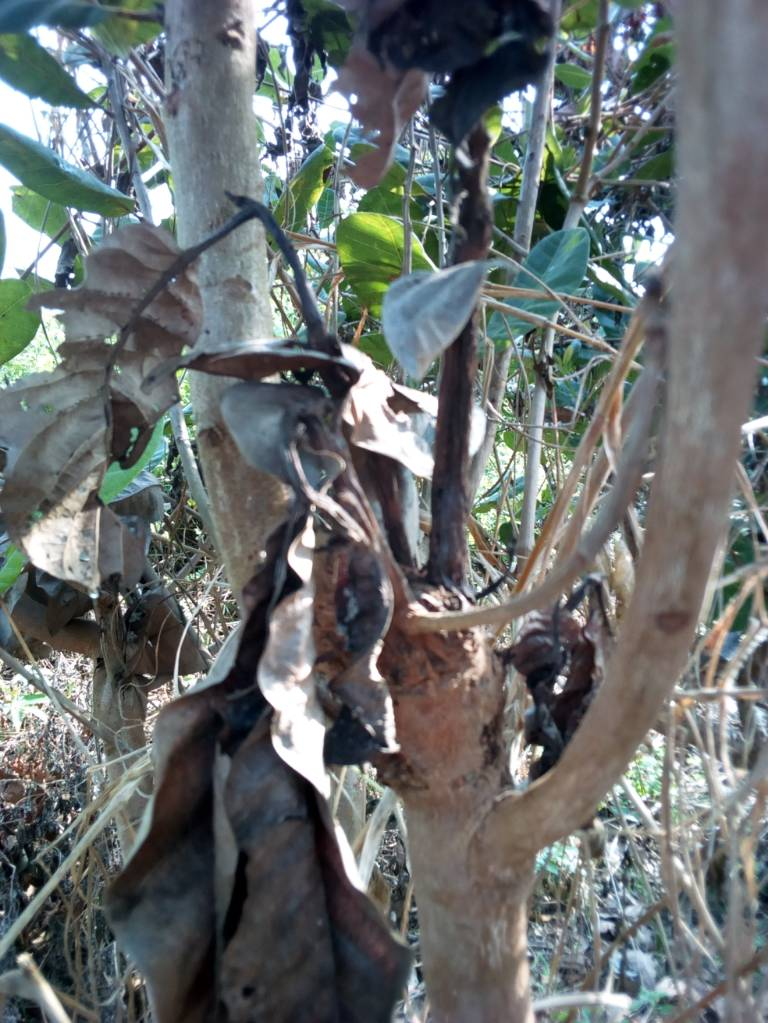Die-black: (110, 594, 432, 1023), (1, 214, 207, 535), (270, 460, 414, 817), (1, 551, 193, 726), (360, 244, 508, 389), (327, 1, 427, 214), (211, 372, 344, 499)
